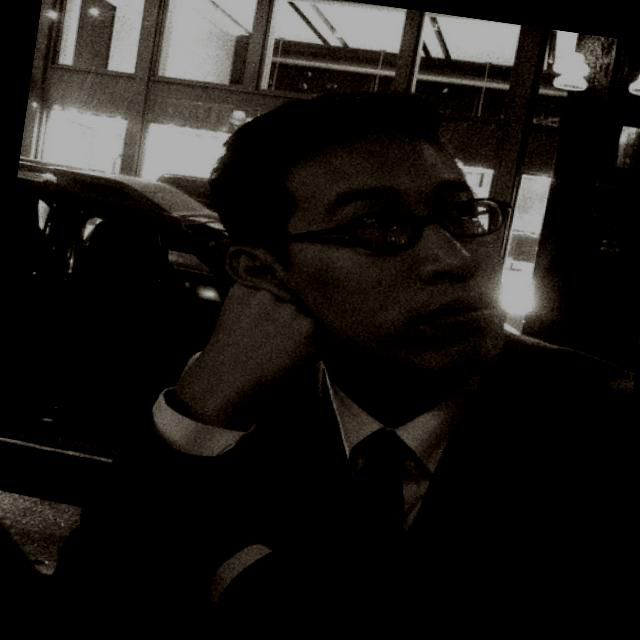Vehicle: (0, 150, 248, 533)
